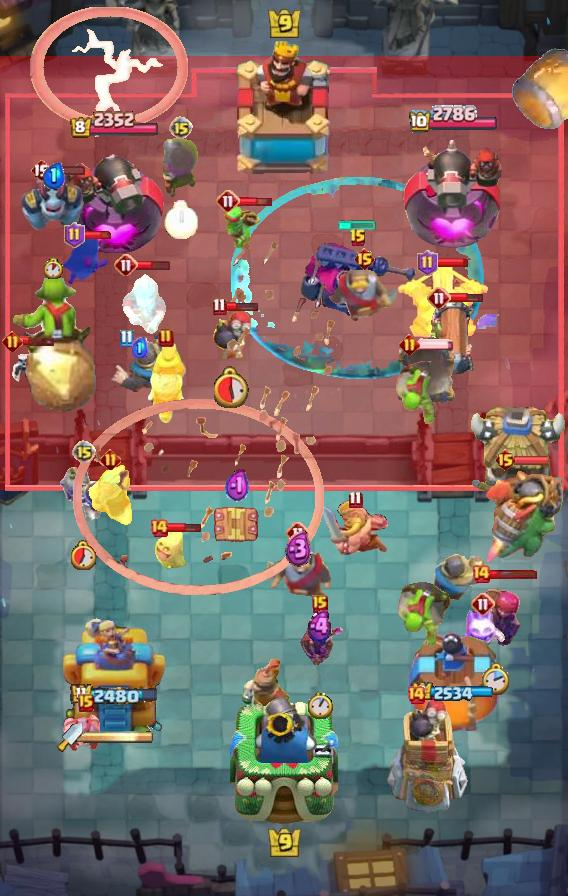archer-evolution: (295, 611, 345, 671)
bandit: (62, 233, 110, 289)
bar: (488, 569, 538, 580), (417, 338, 455, 350), (238, 195, 273, 208), (20, 335, 56, 347), (50, 164, 86, 176), (167, 522, 202, 534), (449, 292, 484, 304), (136, 259, 171, 271), (514, 455, 550, 466), (224, 301, 259, 312), (435, 257, 469, 268), (82, 230, 114, 240)
bar-level: (471, 592, 495, 616), (286, 521, 310, 545), (72, 440, 96, 464), (427, 286, 451, 310), (114, 253, 138, 277), (216, 189, 240, 213), (169, 116, 193, 140), (494, 448, 517, 472), (353, 247, 376, 271), (417, 250, 438, 276), (64, 222, 85, 248), (30, 158, 52, 182), (100, 449, 121, 470), (399, 334, 420, 355), (2, 331, 23, 352), (406, 685, 426, 705), (471, 564, 491, 584), (149, 518, 169, 538), (349, 228, 367, 248), (158, 328, 174, 348), (78, 694, 94, 712), (312, 595, 328, 613), (348, 490, 363, 509), (119, 329, 134, 348), (212, 297, 227, 316)
bomber: (211, 308, 253, 360)
bomber-evolution: (57, 461, 111, 523)
cannoneer-tower: (400, 132, 507, 256), (64, 138, 164, 256)
clock: (214, 366, 250, 408), (164, 200, 198, 239), (482, 662, 511, 697), (71, 540, 97, 570), (308, 692, 333, 719), (44, 258, 63, 279)
dagger-duchess-tower: (62, 615, 167, 731)
dagger-duchess-tower-bar: (83, 730, 153, 744)
elite-barbarian: (320, 499, 390, 557)
elixir: (305, 610, 336, 643), (285, 531, 312, 568), (225, 468, 250, 505), (42, 162, 65, 189), (132, 337, 148, 358)
firecracker-evolution: (468, 573, 524, 649)
goblin-ball: (395, 579, 453, 651), (394, 361, 444, 427)
heal-spirit: (153, 525, 187, 569)
ice-spirit-evolution: (459, 604, 507, 652)
ice-wizard: (85, 464, 135, 528), (120, 270, 168, 334)
king-tower: (228, 41, 340, 181), (230, 692, 338, 826)
knight: (328, 270, 400, 323), (422, 551, 486, 607), (265, 548, 332, 601), (110, 335, 171, 392)
mega-minion: (19, 172, 87, 234)
minion: (63, 713, 109, 753)
mortar: (394, 340, 458, 406)
musketeer: (162, 137, 200, 199)
queen-tower: (407, 633, 499, 731)
ram-rider: (145, 343, 187, 425)
royal-recruit: (242, 657, 290, 723)
skeleton: (11, 344, 40, 384)
spear-goblin: (220, 203, 262, 251)
tesla: (212, 502, 262, 548)
tower-bar: (408, 105, 499, 135), (69, 111, 160, 140), (70, 683, 159, 707), (412, 682, 494, 703)
